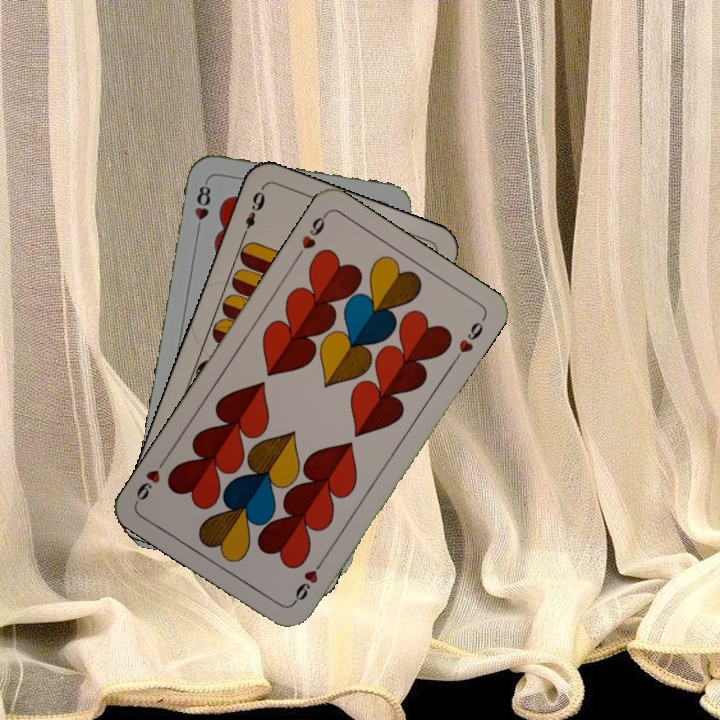E9: (238, 187, 268, 242)
H8: (190, 177, 214, 236)
H9: (291, 209, 330, 262), (288, 555, 327, 607)
